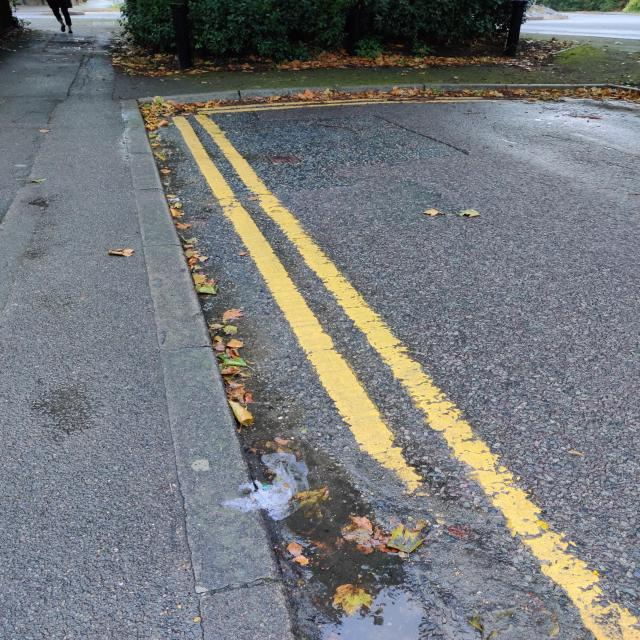litter: (218, 449, 317, 525)
